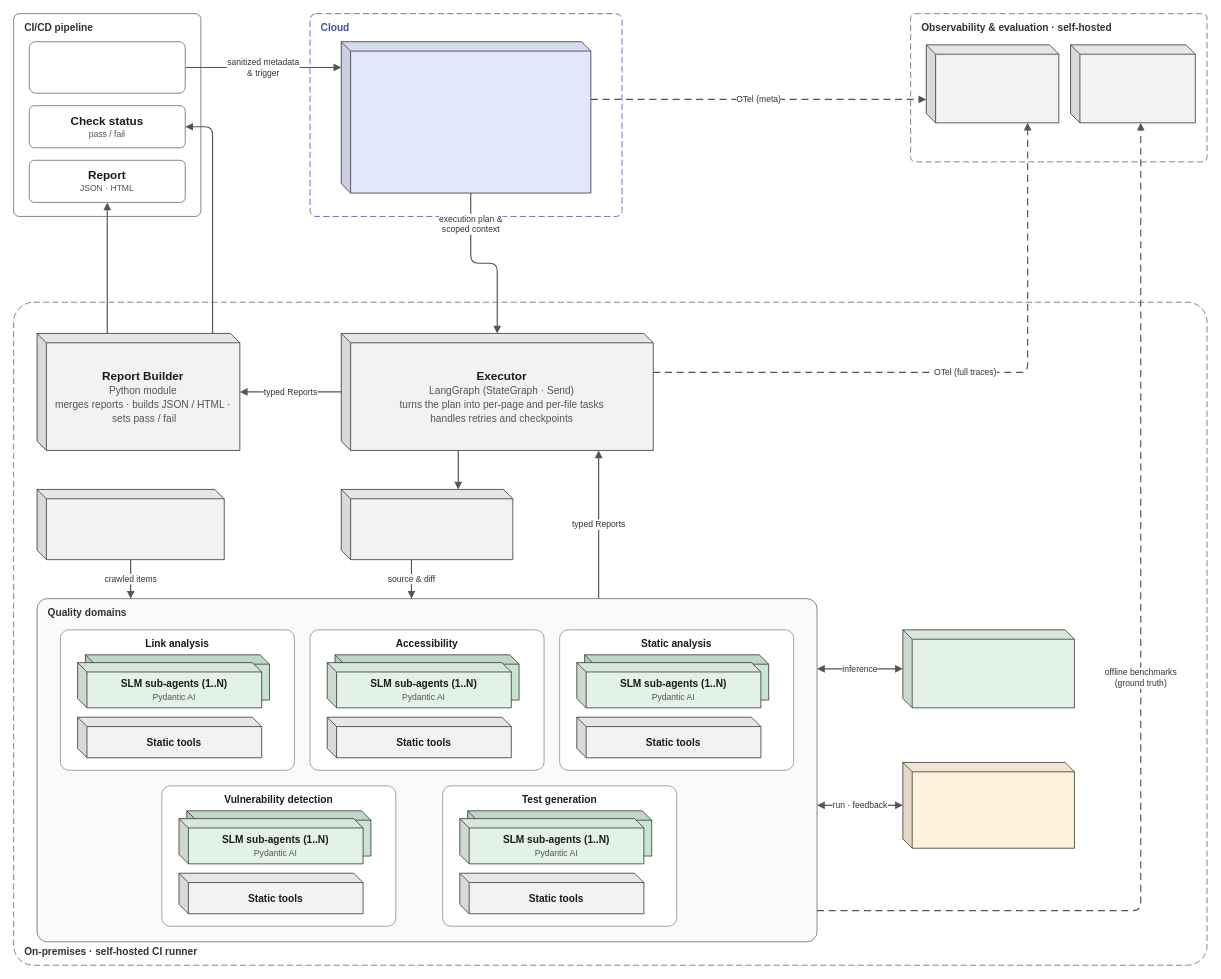
The diagram is 1221 pixels wide and 979 high, and some of its shapes have lost their labels. The shapes that lost their labels are listed below. From the top down, each one's centre as x and y in pixels, then its label:
point (106, 67): Triggers
point (992, 83): Langfuse traces · latency
point (1132, 83): DeepEval offline evals local judge
point (465, 117): Coordinator (Planner / Reviewer) frontier LLM · Pydantic AI
point (130, 524): Crawler Python module
point (426, 524): Repo / Diff
point (988, 668): Local SLMs Ollama · shared inference
point (988, 805): Sandbox Docker / bubblewrap network-isolated
